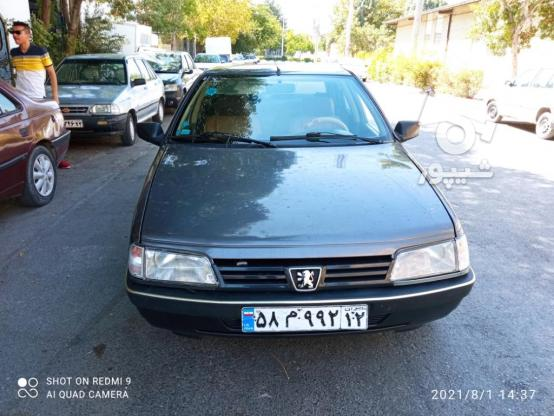car: (238, 301, 371, 338)
